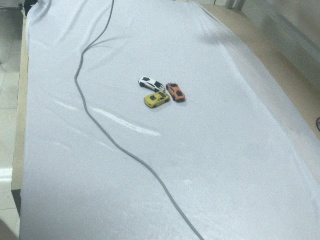toy_car: (138, 77, 185, 108), (144, 91, 170, 109), (138, 76, 165, 93), (166, 83, 185, 103)
